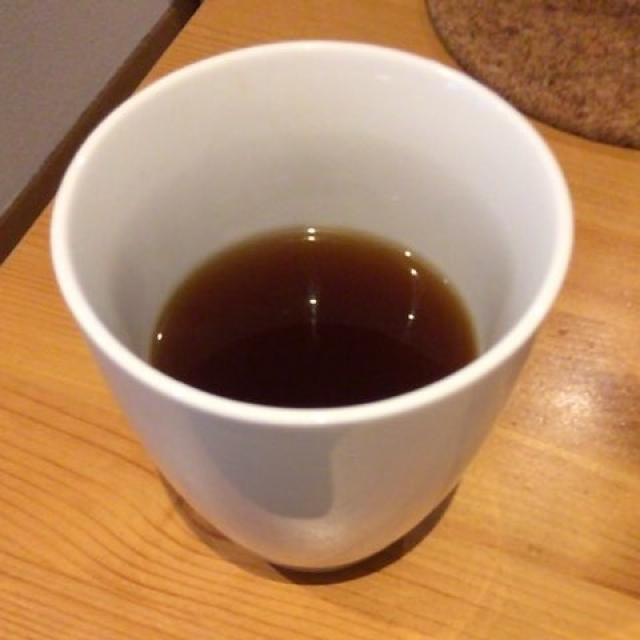coffee: (147, 229, 470, 405)
